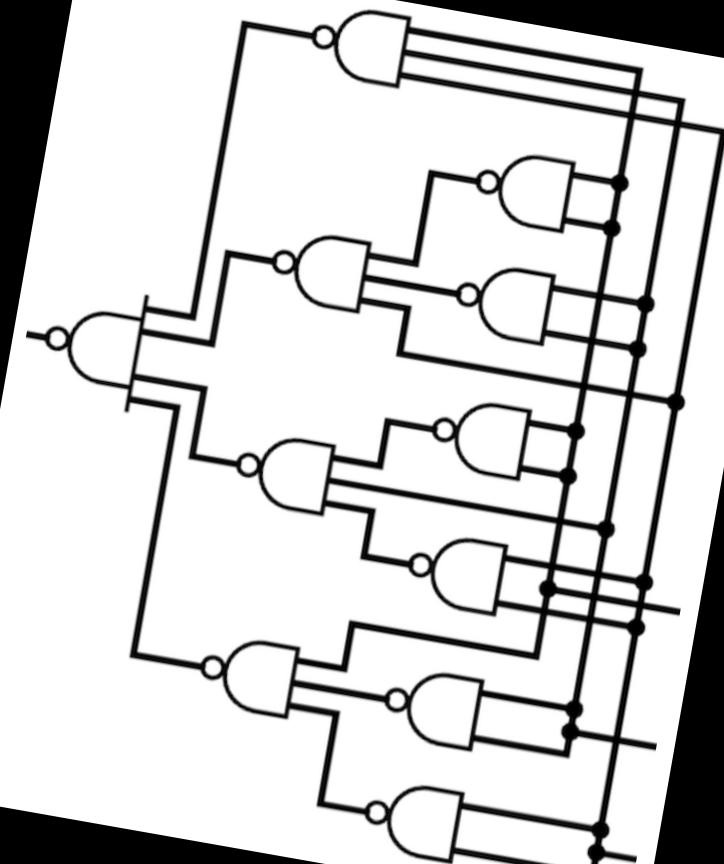nand: (436, 244, 568, 356), (456, 134, 586, 241), (415, 380, 541, 488), (390, 518, 518, 624), (368, 650, 492, 758), (347, 765, 471, 864)
